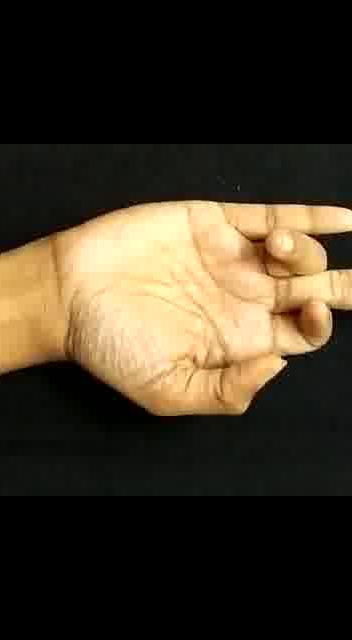shuktund: (46, 149, 352, 436)
